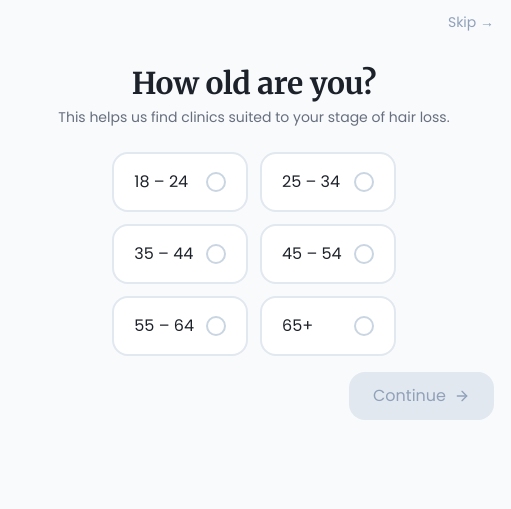
it: GetStarted › advances to the gender step after selecting age and clicking Continue
This screenshot has width=511, height=509.
What coordinates should you click on to do the following:
click the button "18 – 24"
I would click on:
 (180, 182)
Its box is [112,152,248,212].
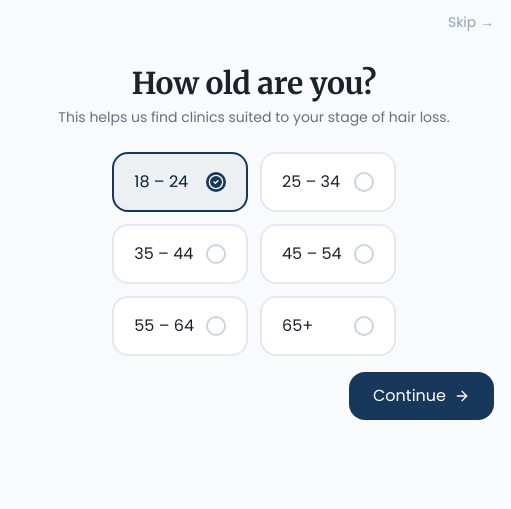
What coordinates should you click on to do the following:
click the button "Continue"
I would click on:
 (422, 396)
Its box is [349,372,494,420].
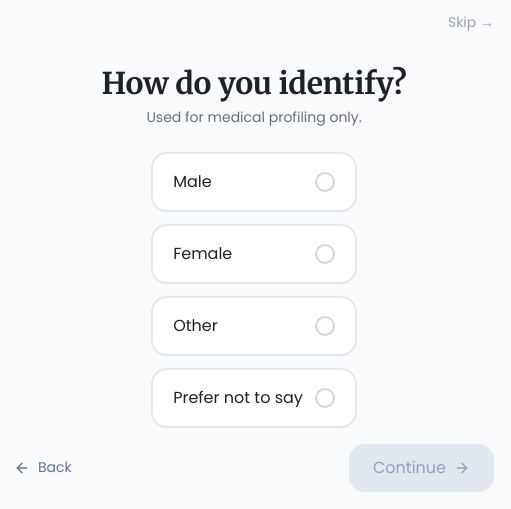
Now the heading "How do you identify?" is shown, box [102,65,406,102]
